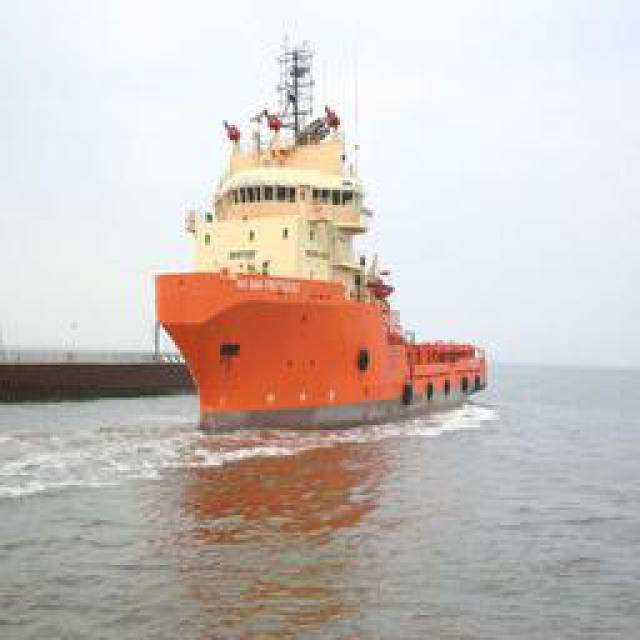Ship: (151, 66, 491, 431)
